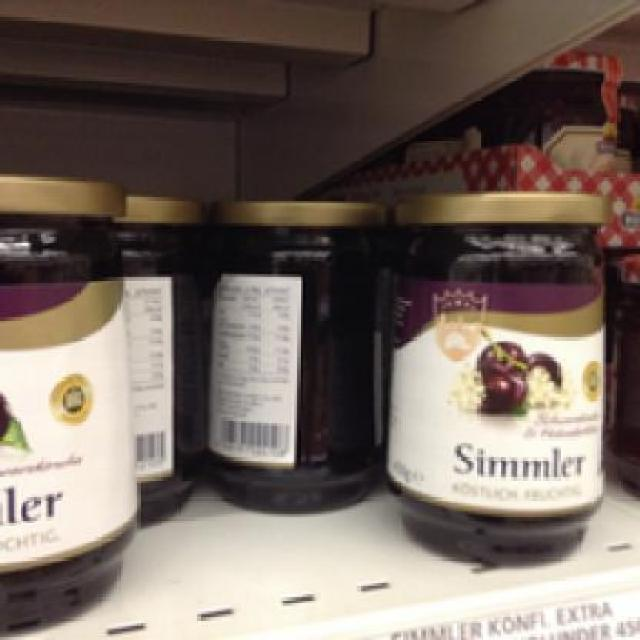Jam: (383, 186, 611, 563), (0, 167, 135, 629), (203, 196, 383, 509)
